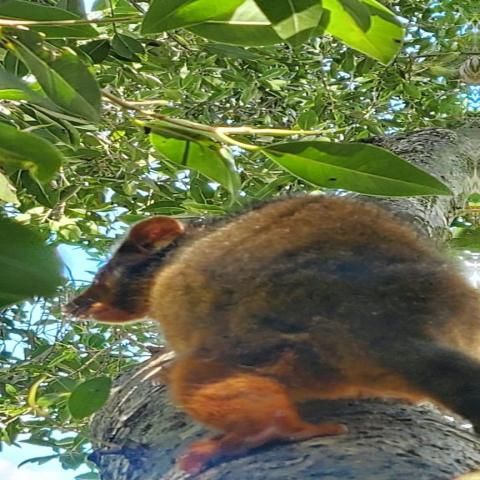small_animal: (61, 191, 477, 474)
